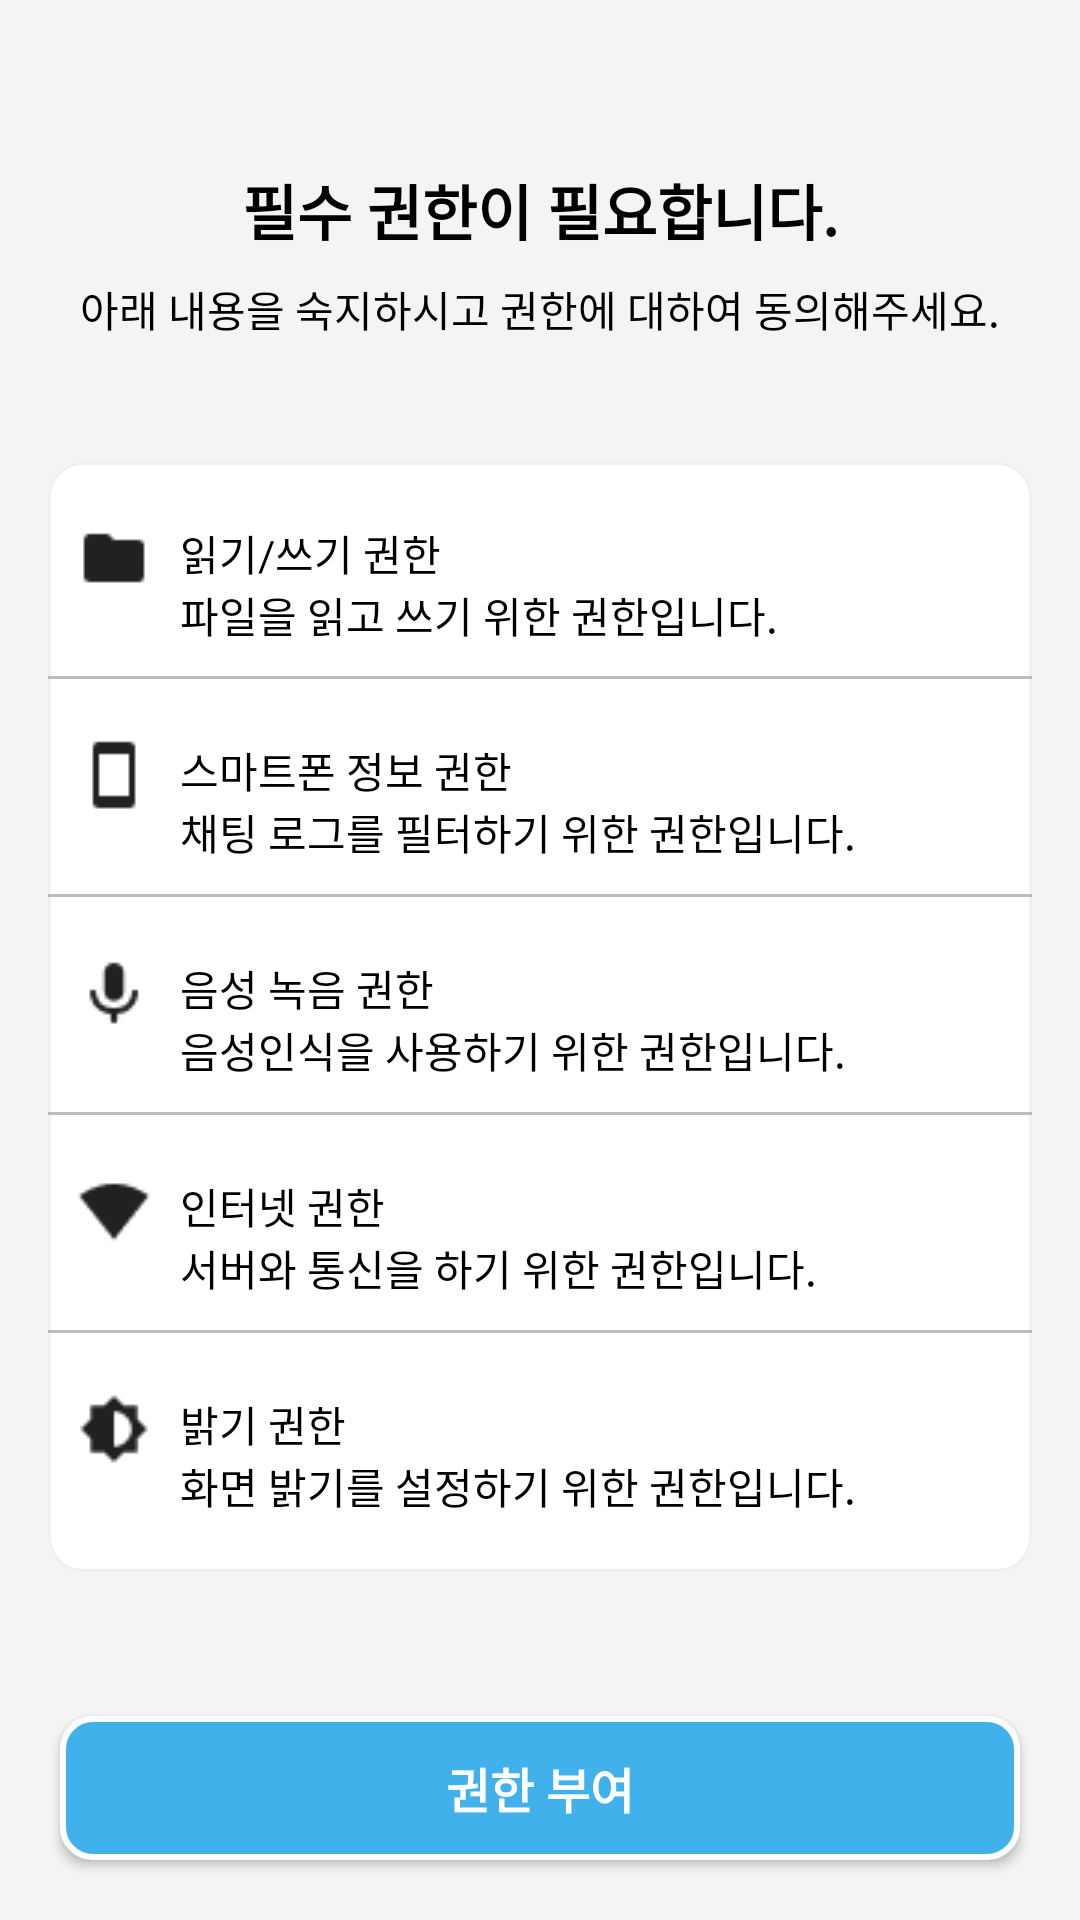

Where to tap for icons on this 1080px×1920px app screen, as (x,y):
write bright: (114,1429)
write internet: (114,1211)
write permission: (114,558)
write phone: (114,775)
write record: (114,993)
